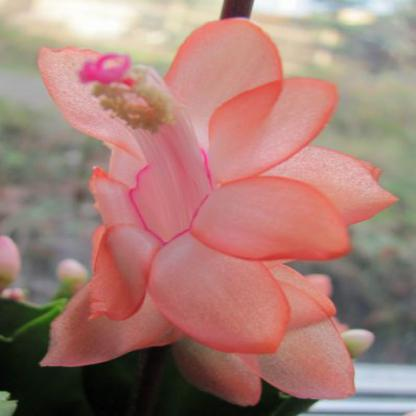Aglonema: (51, 63, 416, 280), (6, 244, 291, 416), (161, 6, 331, 75)
